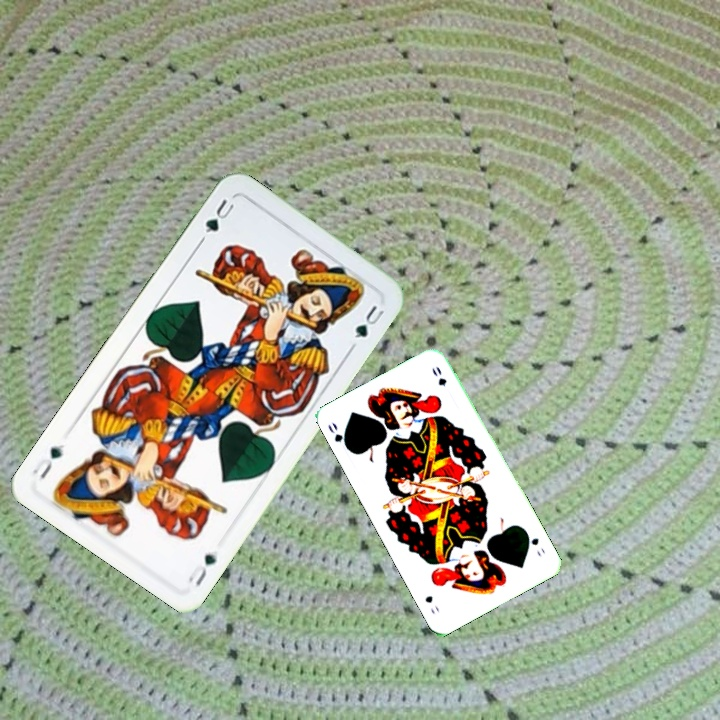GO: (324, 418, 354, 454), (521, 527, 547, 559)
GU: (196, 195, 237, 245), (184, 549, 219, 589)
